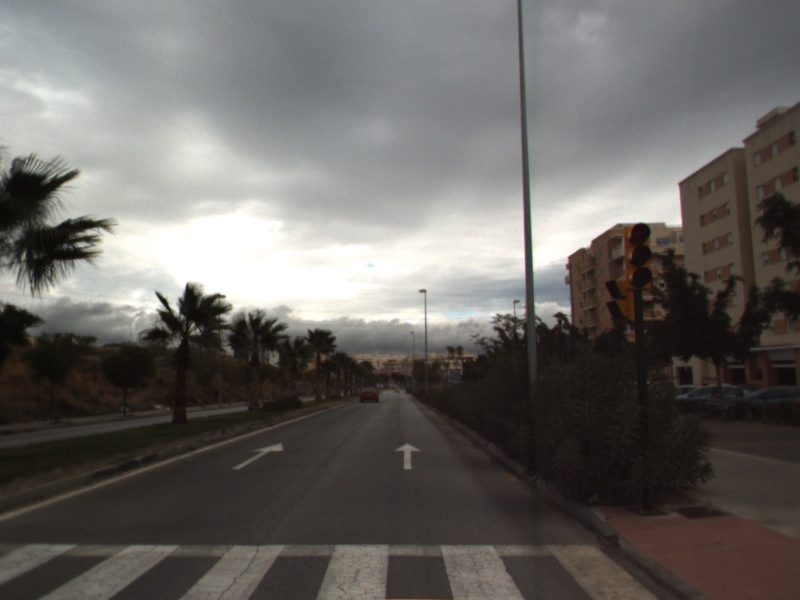STRAIGHT: (230, 441, 285, 472), (392, 441, 424, 471)
